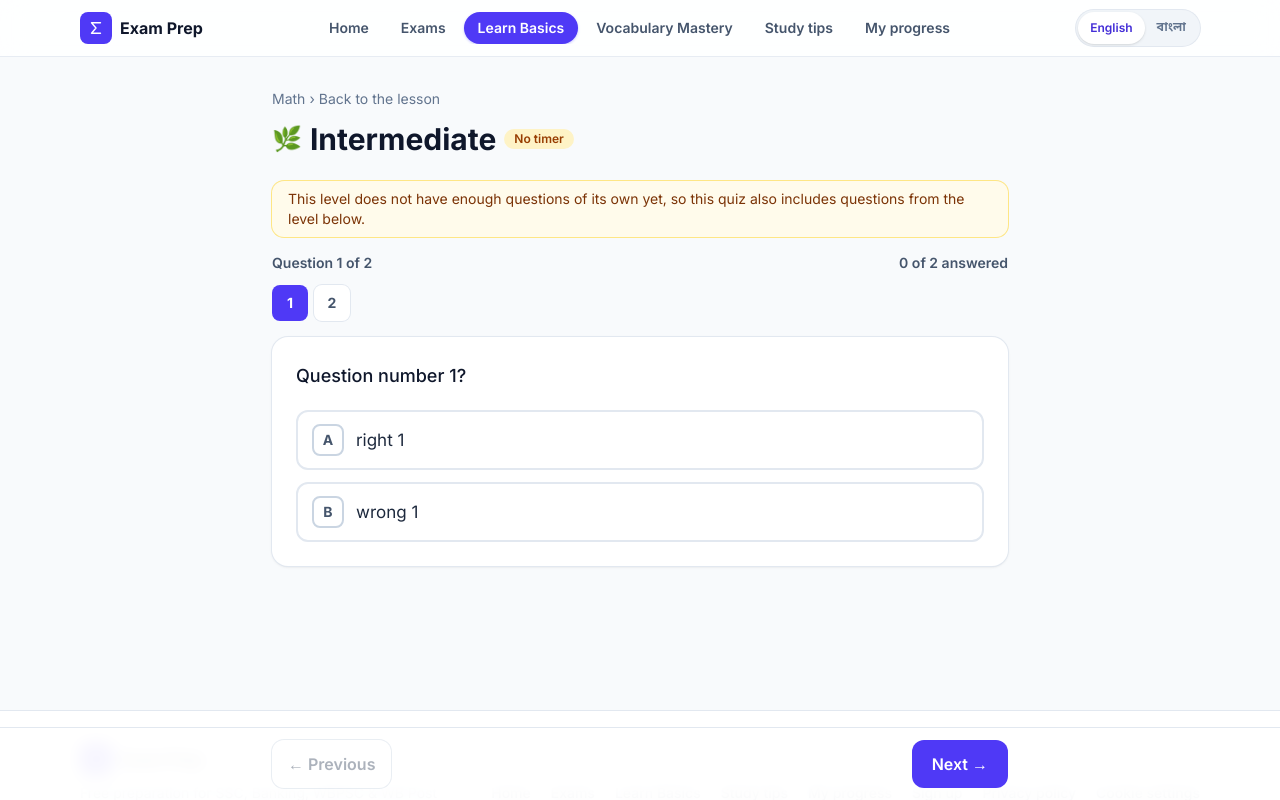
learn › a level that borrows easier questions says so, and Hard-bank review shows syllabus scope
This screenshot has width=1280, height=800.
Expected: the text "also includes questions from the level below" is shown, x1=288 y1=190 x2=964 y2=227
Click the radio button labelled "A right 1".
click(328, 440)  # box x1=296 y1=410 x2=984 y2=470
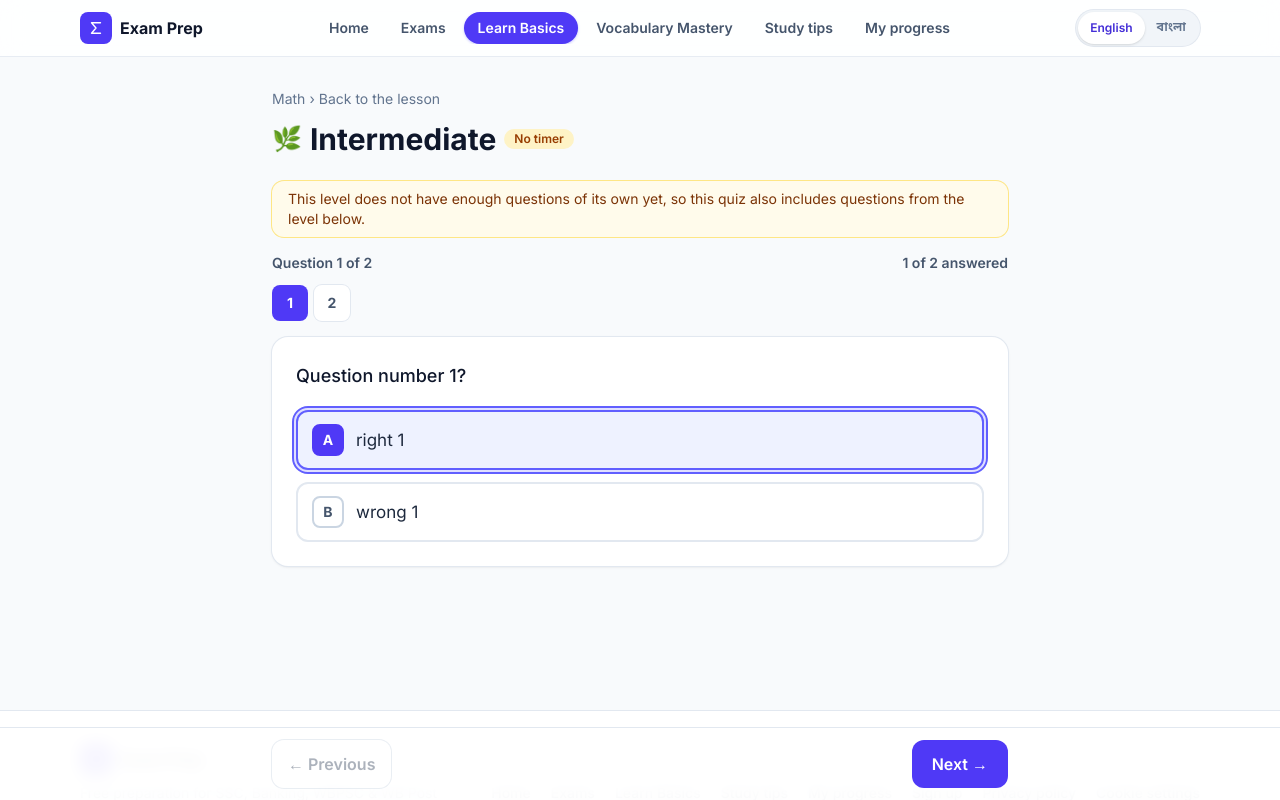
Click the button "Next →".
click(960, 764)  # box x1=912 y1=740 x2=1008 y2=788
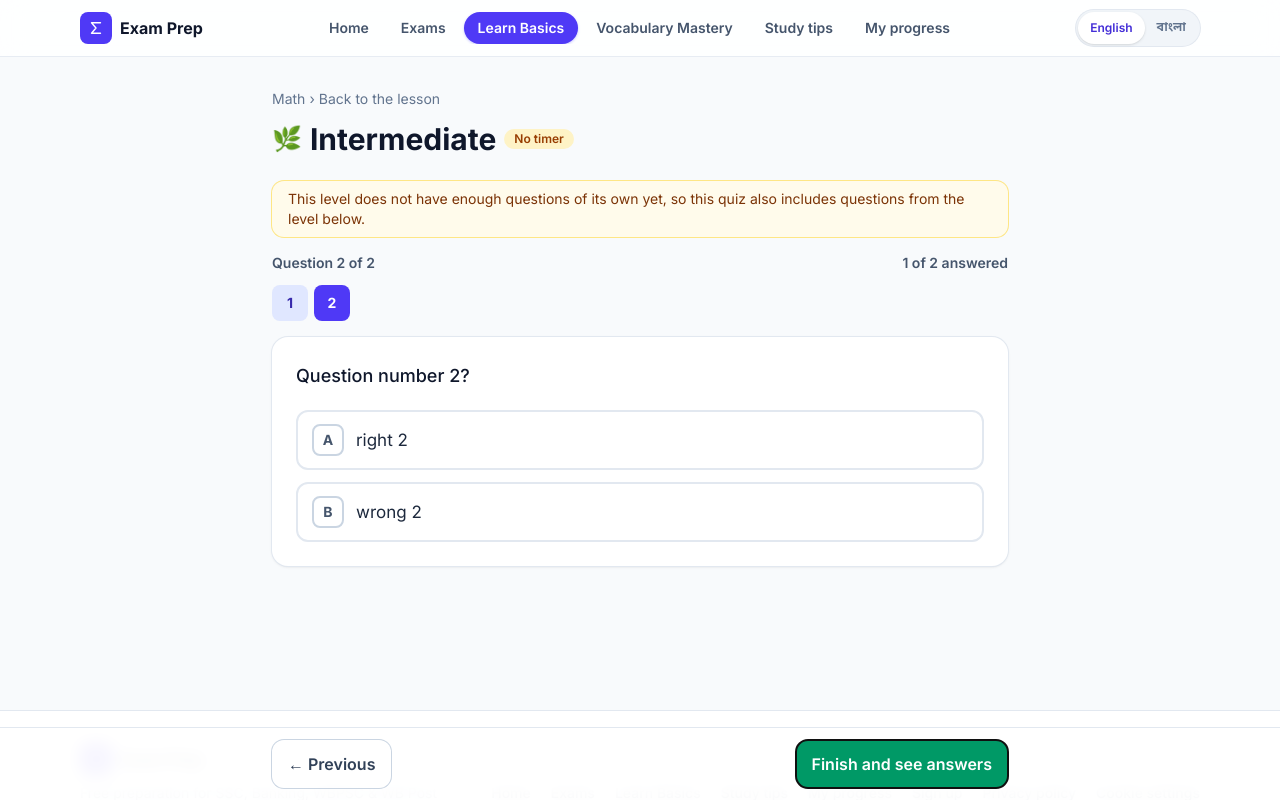
Click the radio button labelled "A right 2".
click(328, 440)  # box x1=296 y1=410 x2=984 y2=470
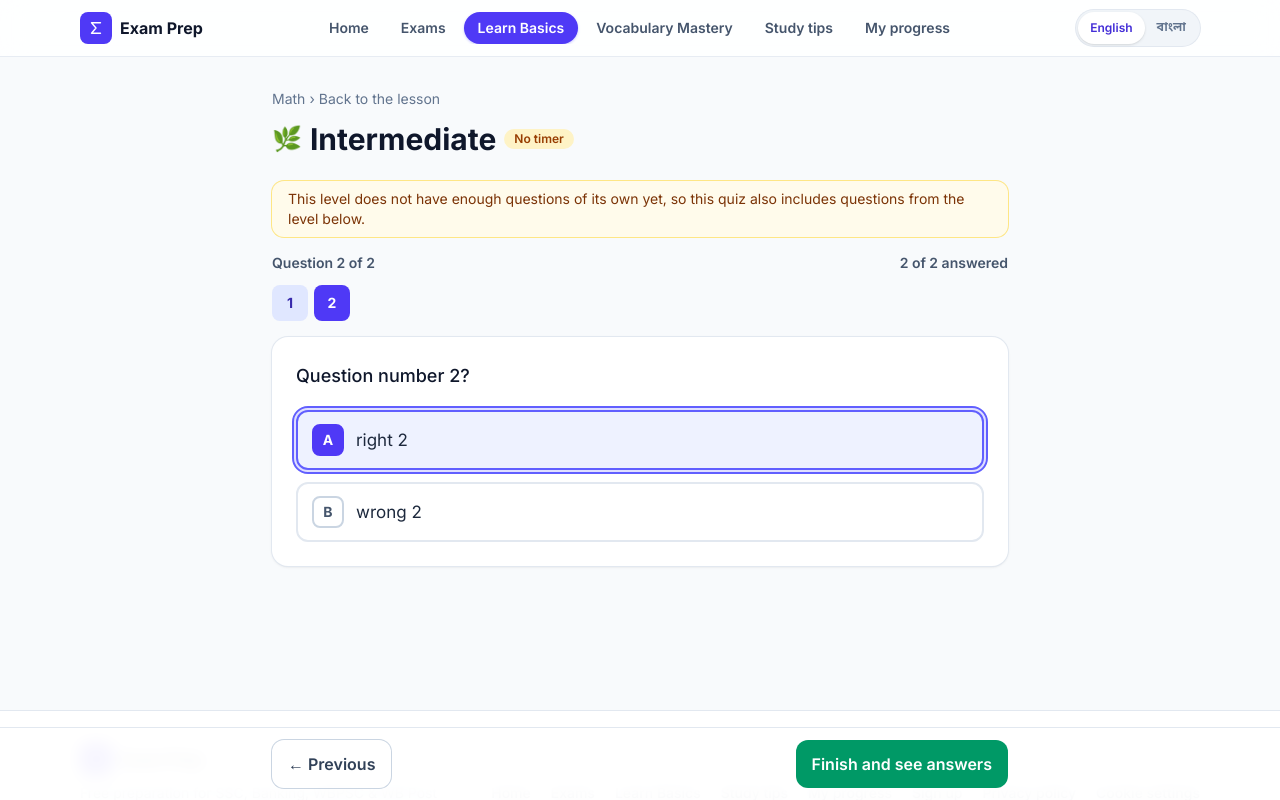
Click the button "Finish and see answers".
click(902, 764)  # box x1=796 y1=740 x2=1008 y2=788
(page scrolled)
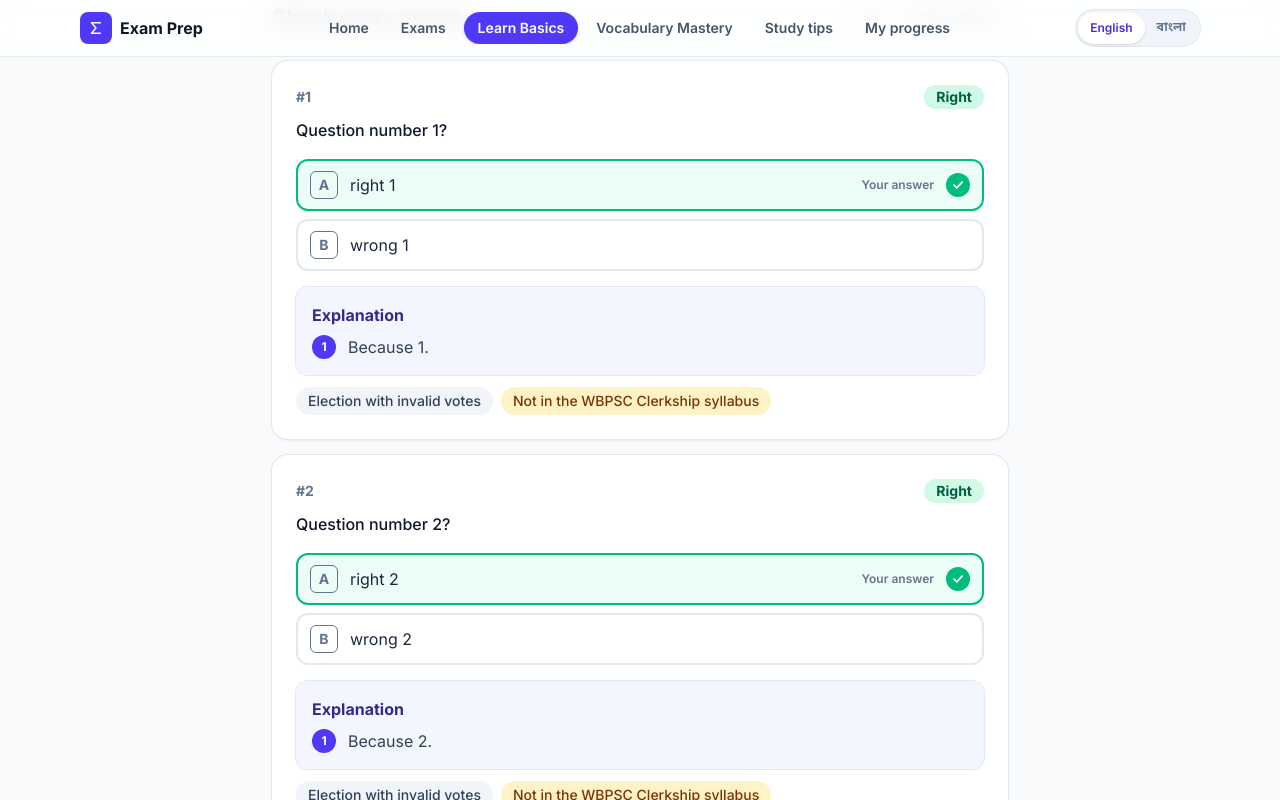
Result: the text "Election with invalid votes" below "Question number 1?" is shown at x1=308 y1=392 x2=481 y2=409
